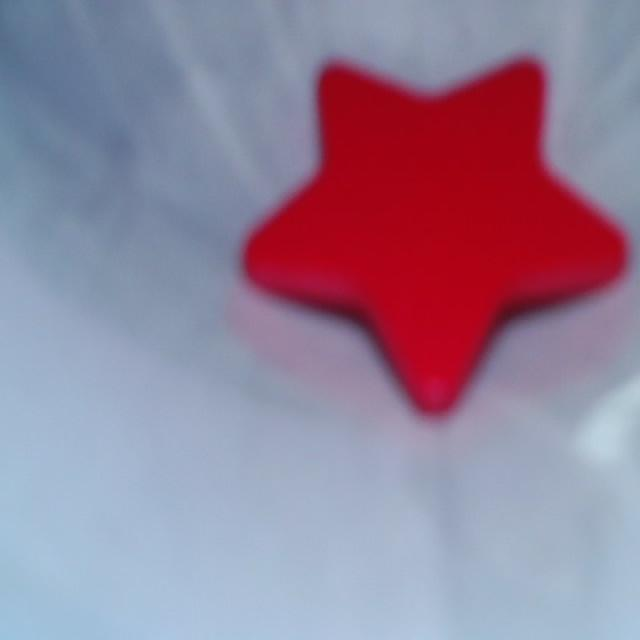star: (244, 59, 627, 412)
